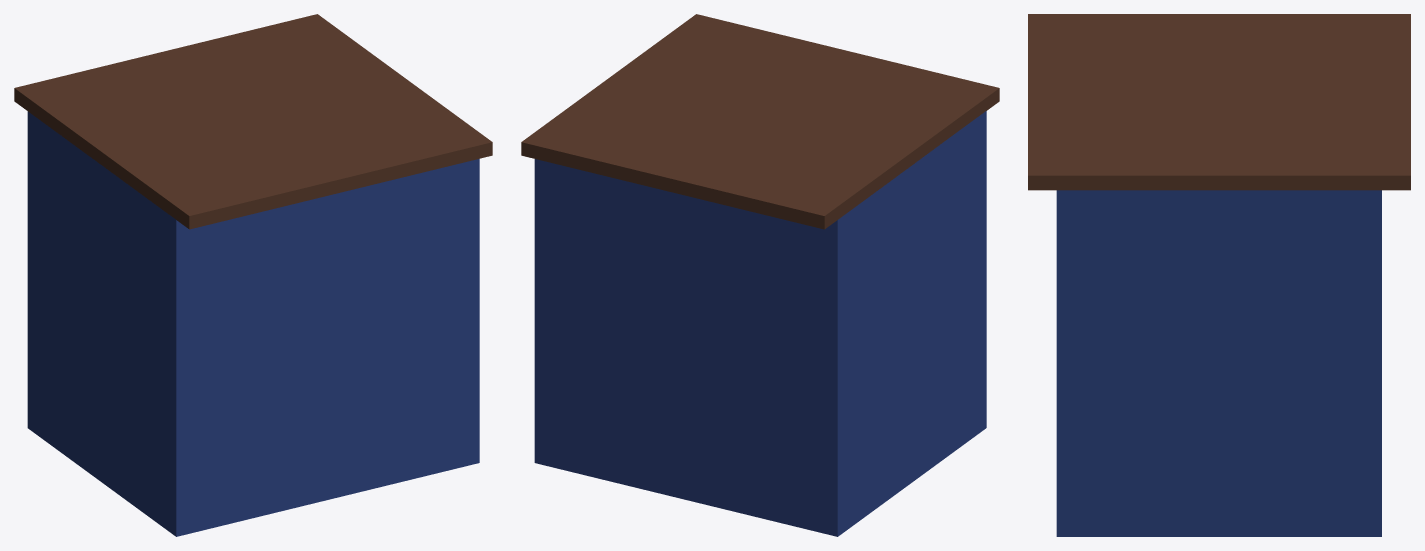
File: Connect_2.fbx
3 views of the same model, side by side, from view 1: azimuth 30°, elevation 25°; view 2: azimuth 150°, elevation 25°; view 3: azimuth 270°, elevation 25° (orthographic). The views are drawn at different scales.
Parts seen in each view (by area): view 1: Cube_5, Cube_4; view 2: Cube_5, Cube_4; view 3: Cube_5, Cube_4.
Part boxes in pixels (x1,y1,x2,y2): Cube_5: [27, 111, 479, 536]; Cube_4: [14, 14, 492, 229]; Cube_5: [534, 111, 986, 536]; Cube_4: [521, 14, 999, 229]; Cube_5: [1056, 190, 1381, 536]; Cube_4: [1028, 14, 1410, 190].
Bounding box in the file's own units: 200 × 208 × 200.
